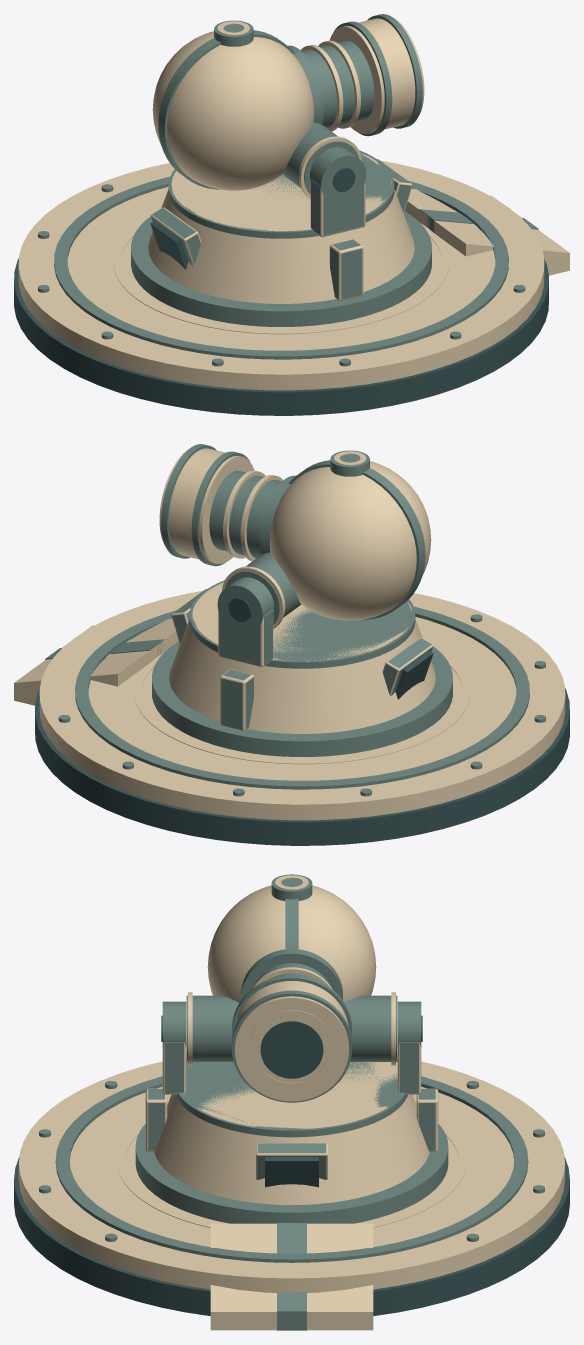
The model's file is Relay_Cannon_v4.glb.
3 views of the same model, one above another, from view 1: azimuth 30°, elevation 25°; view 2: azimuth 150°, elevation 25°; view 3: azimuth 270°, elevation 25° (orthographic). The views are drawn at different scales.
Parts seen in each view (by area): view 1: Relay_Cannon_v4, Head; view 2: Relay_Cannon_v4, Head; view 3: Relay_Cannon_v4, Head.
Boxes of the visible parts, x1=… form: Relay_Cannon_v4: x1=14, y1=147, x2=569, y2=415; Head: x1=152, y1=14, x2=424, y2=198; Relay_Cannon_v4: x1=14, y1=577, x2=569, y2=845; Head: x1=159, y1=444, x2=431, y2=628; Relay_Cannon_v4: x1=14, y1=1001, x2=569, y2=1330; Head: x1=186, y1=874, x2=397, y2=1102.
Bounding box in the file's own units: 9.6 × 5.45 × 9.24.
